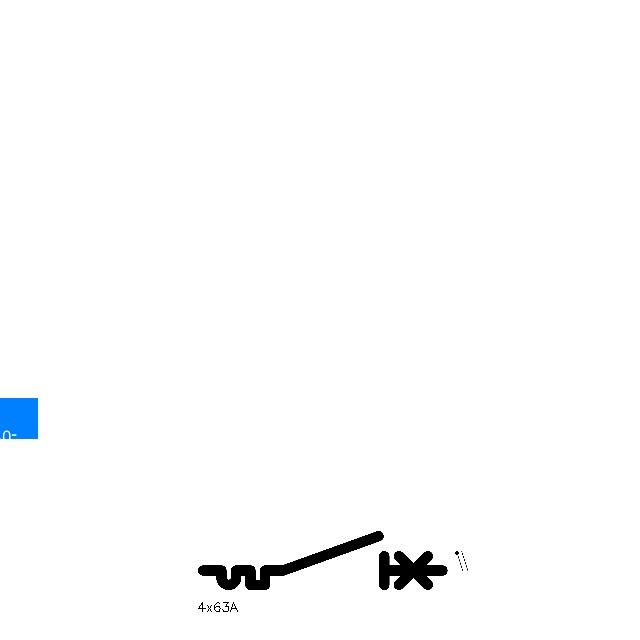interruptor_termomagnetico: (197, 530, 448, 591)
